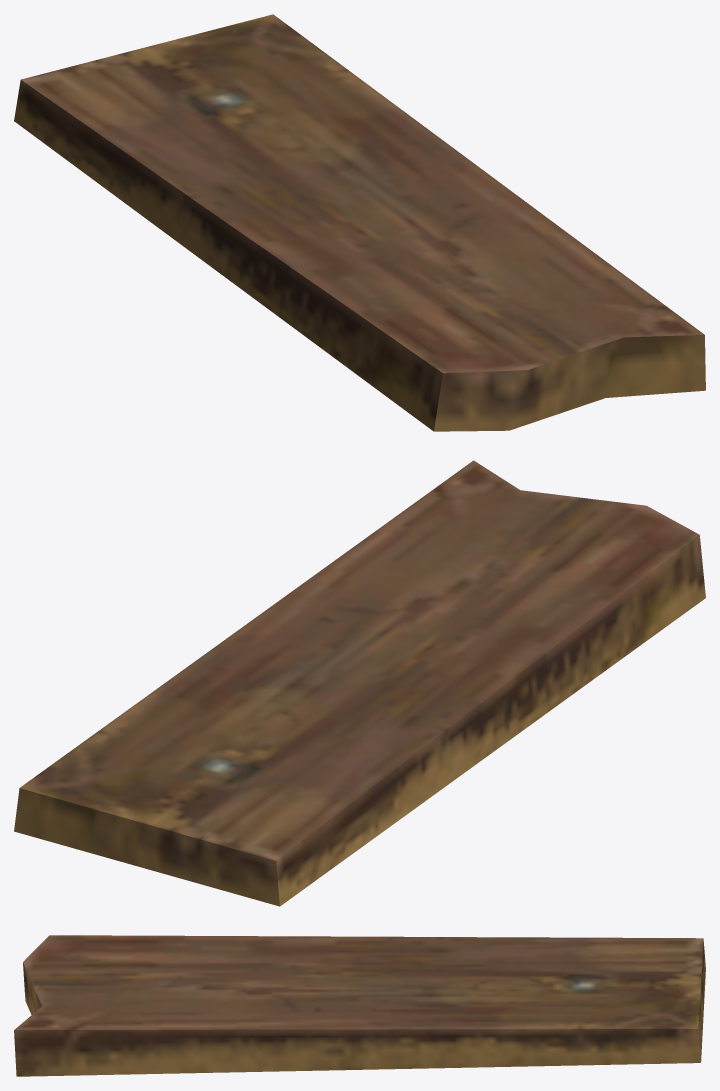
Rendered from common_shamo_muban02.FBX.
The picture shows the model from 3 angles, top to bottom: view 1: azimuth 30°, elevation 25°; view 2: azimuth 150°, elevation 25°; view 3: azimuth 270°, elevation 25°; orthographic projection. The views are drawn at different scales.
Parts seen in each view (by area): view 1: common_shamo_muban02; view 2: common_shamo_muban02; view 3: common_shamo_muban02.
Part boxes in pixels (<box>): common_shamo_muban02: <box>14,14,705,431</box>; common_shamo_muban02: <box>14,460,705,906</box>; common_shamo_muban02: <box>14,935,705,1076</box>.
Bounding box in the file's own units: 1.18 × 0.2696 × 3.48.
